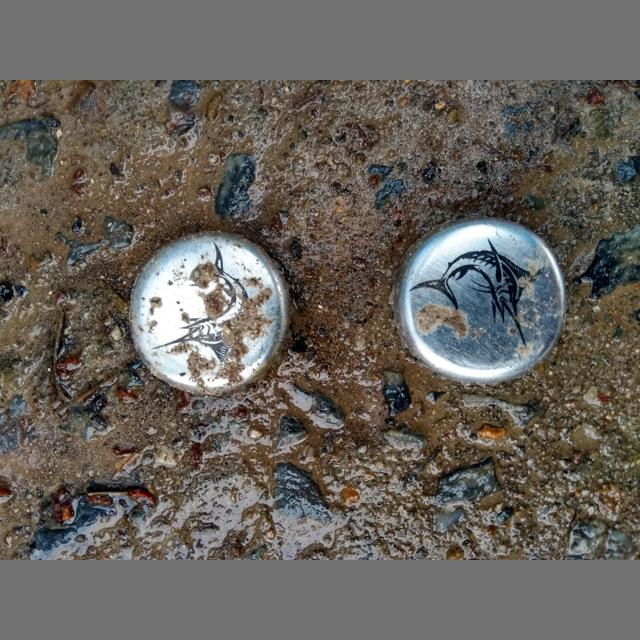litter: (394, 216, 566, 385), (129, 230, 293, 396)
